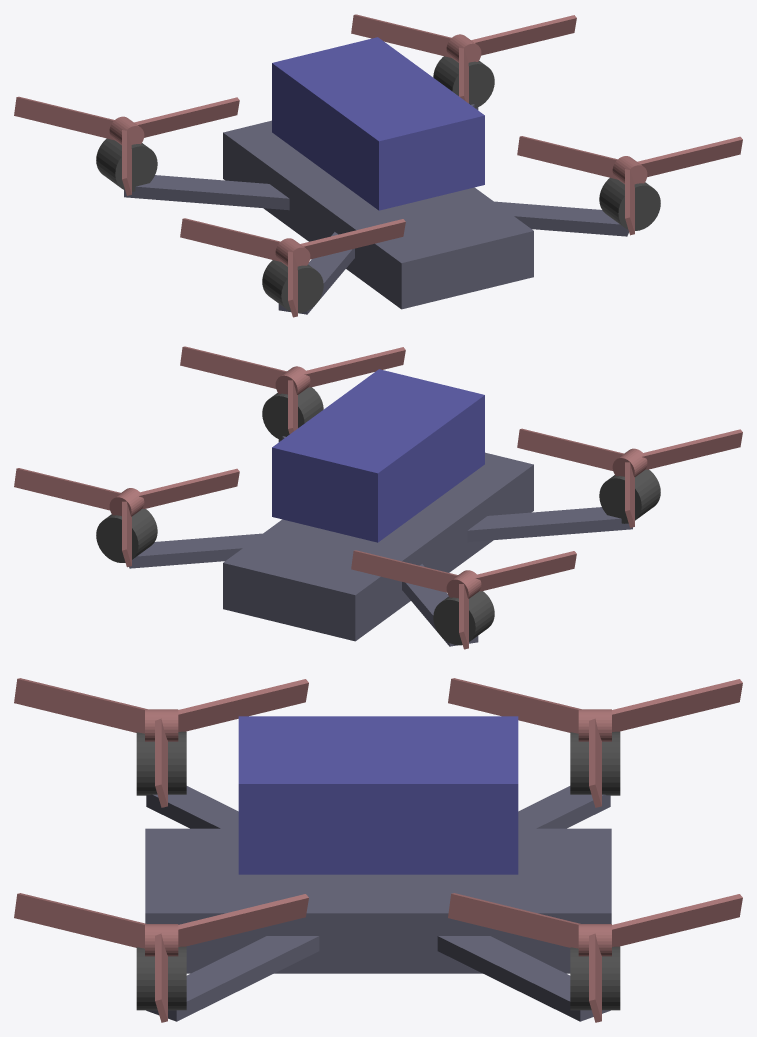
File: Tiny Hawk 2.glb
The picture shows the model from 3 angles, top to bottom: view 1: azimuth 30°, elevation 25°; view 2: azimuth 150°, elevation 25°; view 3: azimuth 270°, elevation 25°; orthographic projection. The views are drawn at different scales.
Visible parts, largest first — view 1: battery, frame_body, prop_0, prop_3, prop_2, prop_1, arm_3, arm_0, motor_0, motor_2, motor_3, motor_1 (+1 smaller); view 2: battery, frame_body, prop_1, prop_3, prop_2, prop_0, arm_2, arm_1, motor_3, motor_1, motor_2, motor_0 (+1 smaller); view 3: battery, frame_body, prop_0, prop_1, prop_2, prop_3, arm_1, arm_0, arm_2, arm_3, motor_0, motor_1 (+2 smaller).
Boxes of the visible parts, x1,y1,x2,y2 form: battery: (272,37,484,210); frame_body: (223,120,533,309); prop_0: (517,136,742,235); prop_3: (14,96,239,195); prop_2: (180,218,405,317); prop_1: (351,14,576,103); arm_3: (124,175,289,210); arm_0: (494,201,628,236); motor_0: (599,178,660,230); motor_2: (262,260,323,313); motor_3: (96,138,157,191); motor_1: (433,56,494,108); battery: (272,369,484,542); frame_body: (223,452,533,641); prop_1: (14,468,239,567); prop_3: (351,550,576,649); prop_2: (517,428,742,527); prop_0: (180,346,405,433); arm_2: (467,507,632,542); arm_1: (129,533,262,568); motor_3: (433,591,494,645); motor_1: (96,509,157,562); motor_2: (599,469,660,523); motor_0: (262,387,323,440); battery: (238,716,518,874); frame_body: (145,828,611,973); prop_0: (14,893,308,1022); prop_1: (448,893,742,1022); prop_2: (14,678,308,807); prop_3: (448,678,742,807); arm_1: (437,936,610,1021); arm_0: (146,936,319,1021); arm_2: (146,786,238,828); arm_3: (518,786,610,828); motor_0: (136,946,186,1010); motor_1: (570,946,620,1010).
Bounding box in the file's own units: 0.2293 × 0.06 × 0.2187.
